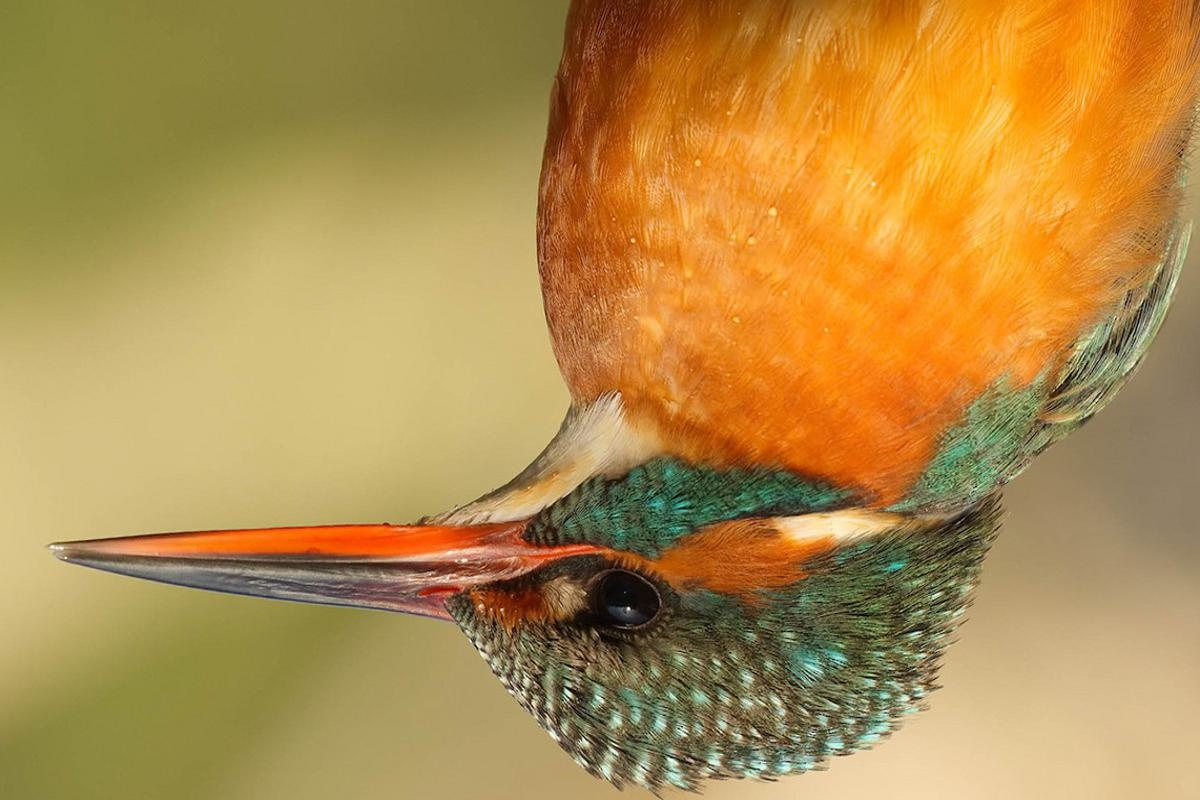kingfisher: (38, 1, 1200, 780)
